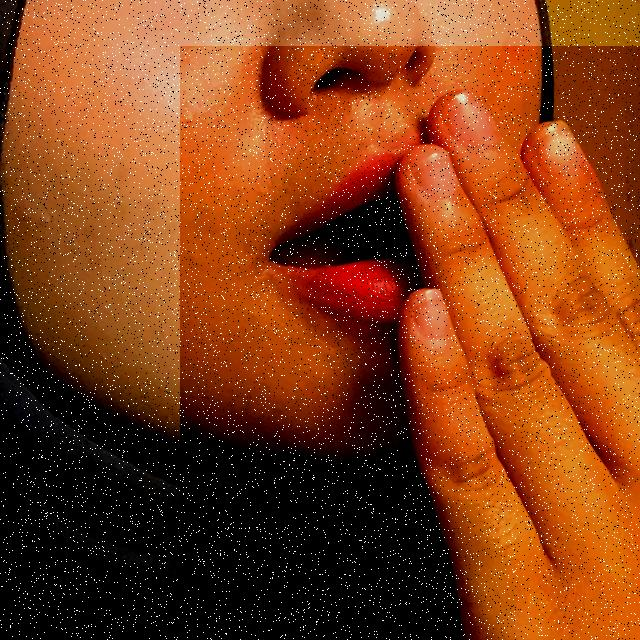ngantuk: (180, 46, 640, 640)
